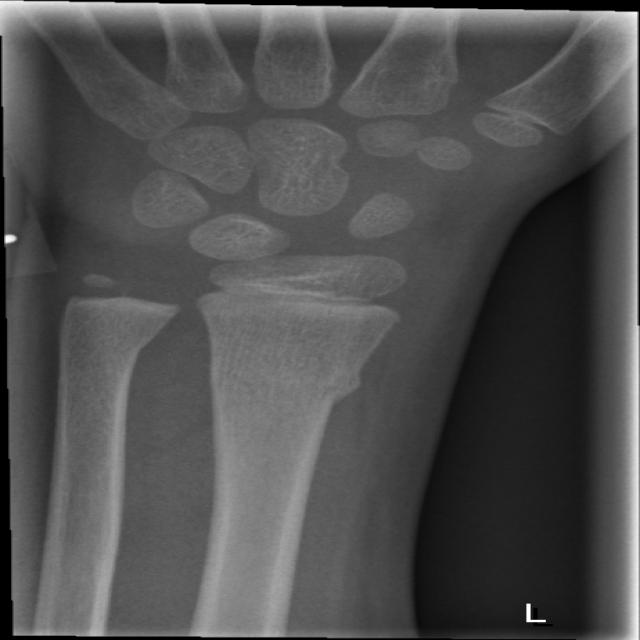radius fracture: (307, 314, 404, 488)
